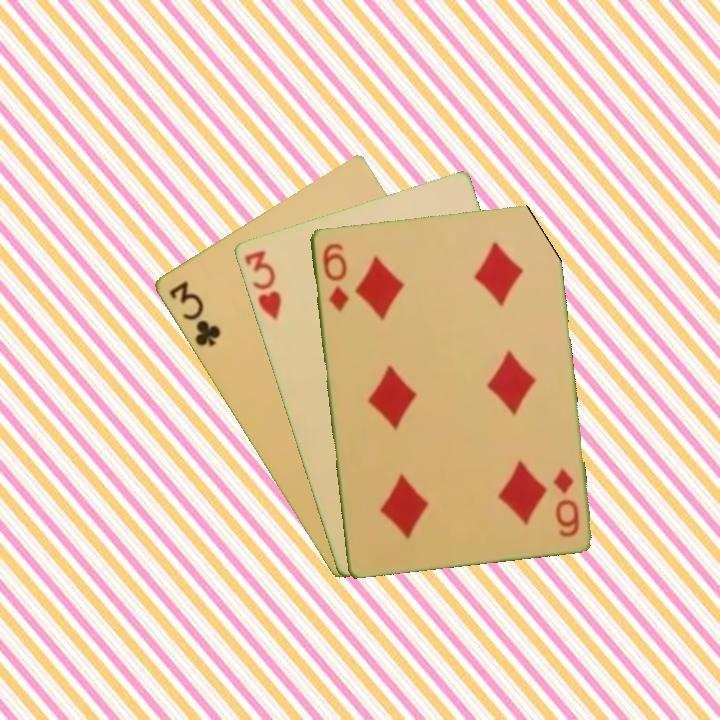3c: (164, 277, 224, 350)
3h: (240, 246, 284, 323)
6d: (549, 464, 582, 540), (318, 239, 351, 314)
